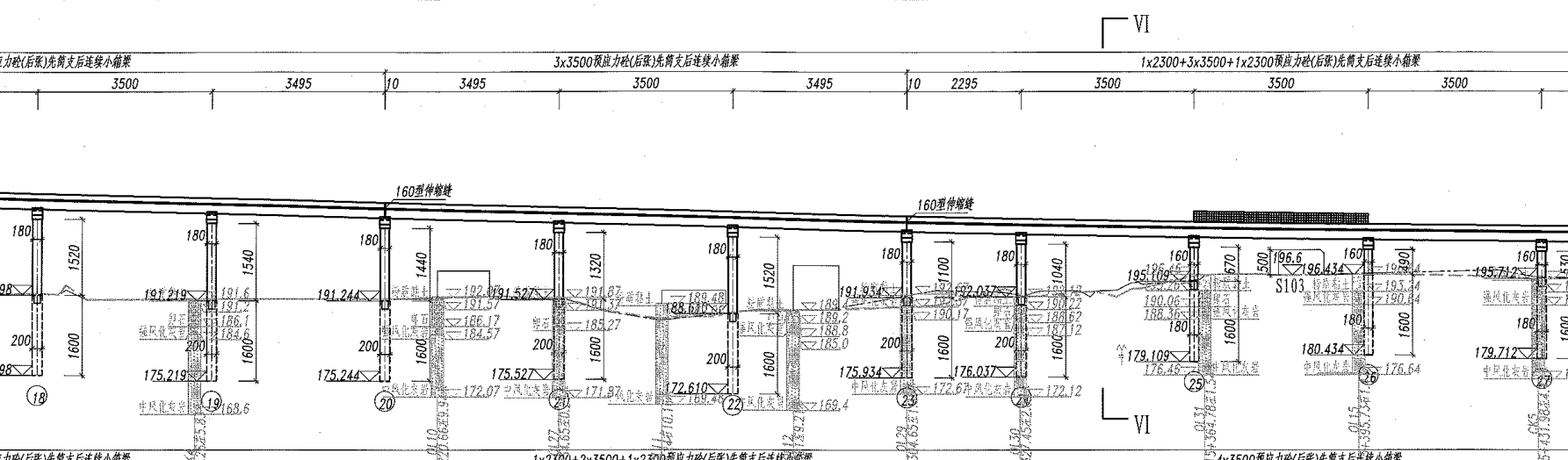B: (912, 45, 1567, 82)
C: (140, 207, 230, 417), (312, 210, 402, 418), (490, 215, 577, 415), (840, 224, 926, 413), (957, 226, 1037, 411), (1124, 229, 1210, 398), (1471, 232, 1557, 394), (680, 219, 749, 419), (1300, 232, 1384, 390), (0, 202, 57, 412)
